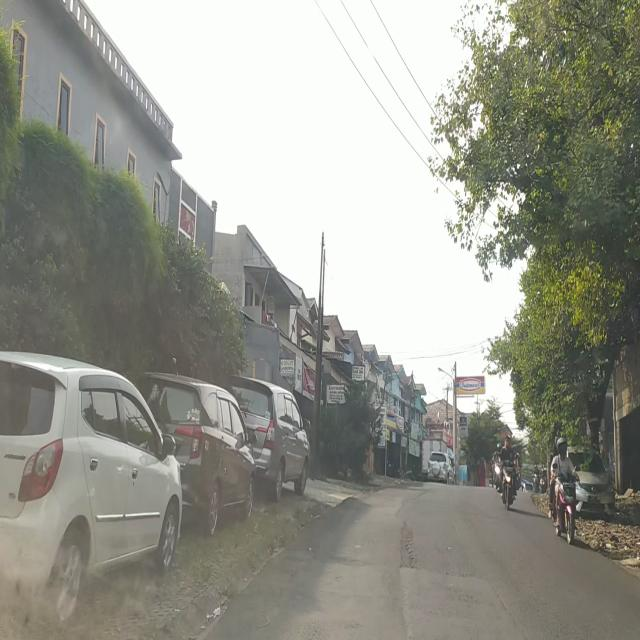Drain Hole: (397, 519, 418, 569)
